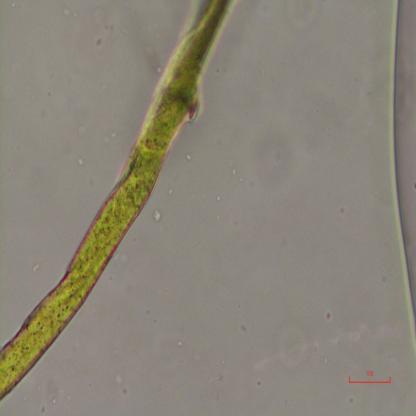Air bubble: (383, 0, 416, 337)
Background material: (239, 127, 296, 191), (275, 0, 318, 25), (143, 46, 165, 79), (153, 207, 164, 222), (32, 259, 42, 273), (115, 372, 123, 386), (324, 310, 334, 321), (164, 188, 174, 197), (215, 193, 222, 204), (78, 158, 85, 167), (178, 338, 184, 348), (186, 153, 192, 162), (232, 167, 236, 177)
Microfibre: (0, 1, 233, 402)
